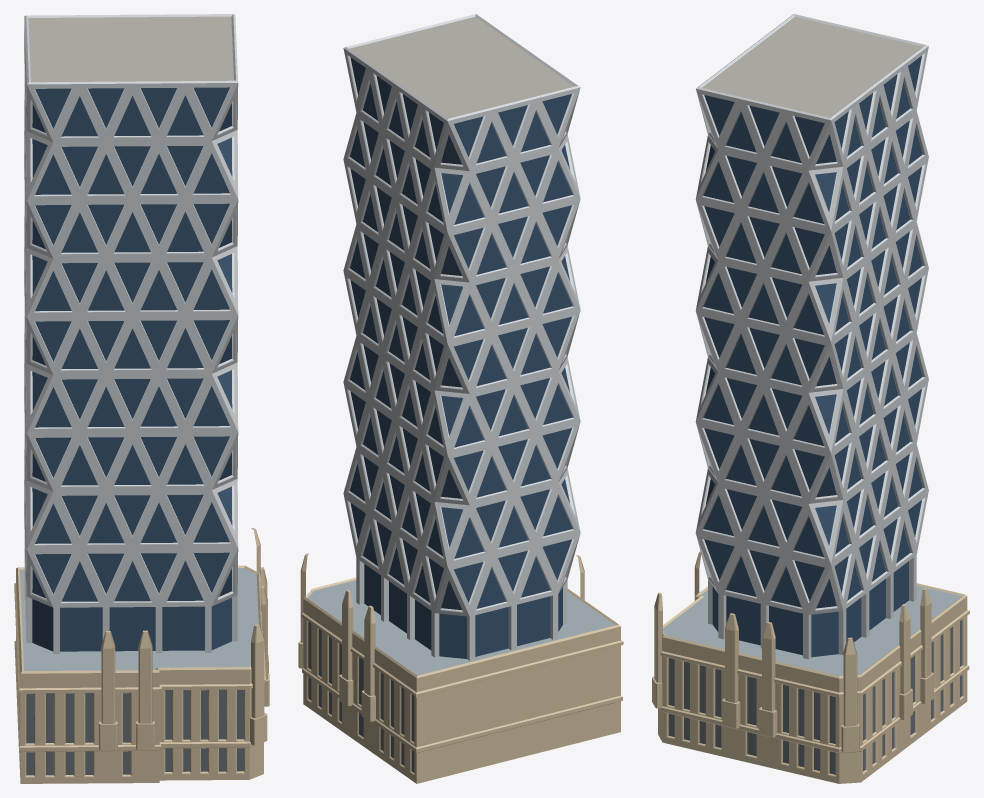
3 views of the same model, side by side, from view 1: azimuth 30°, elevation 25°; view 2: azimuth 150°, elevation 25°; view 3: azimuth 270°, elevation 25° (orthographic). The views are drawn at different scales.
Visible parts, largest first — view 1: hearst-tower; view 2: hearst-tower; view 3: hearst-tower.
Part boxes in pixels (x1,y1,x2,y2): hearst-tower: (14, 14, 269, 783); hearst-tower: (298, 14, 623, 783); hearst-tower: (652, 14, 969, 783).
Bounding box in the file's own units: 81 × 182 × 80.63.
